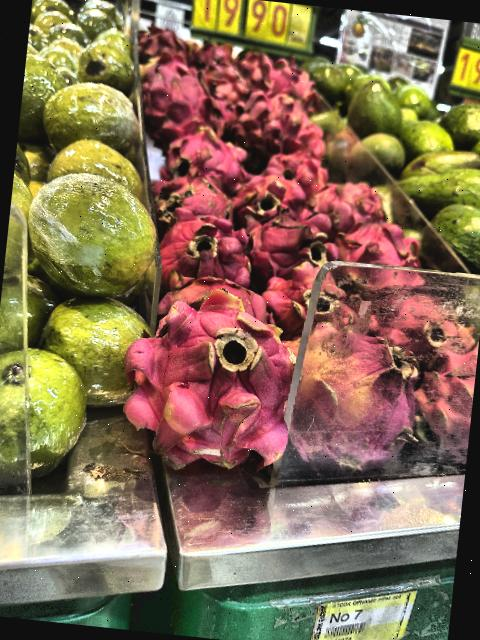buah-naga-belum-matang: (132, 292, 317, 486), (272, 314, 434, 484)
buah-naga-matang: (248, 252, 378, 352), (324, 210, 438, 307), (156, 204, 264, 295), (135, 54, 228, 154), (243, 212, 344, 290), (158, 125, 258, 194), (147, 166, 246, 230), (225, 170, 311, 241), (306, 173, 391, 234)
